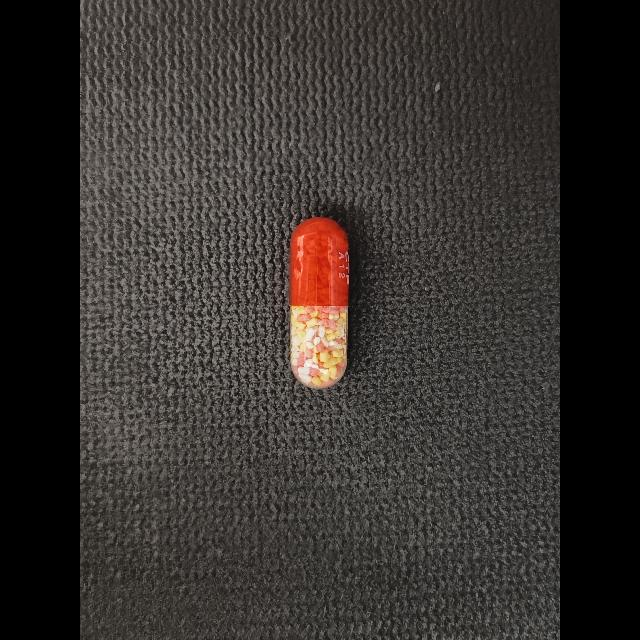Intact Capsule: (290, 217, 349, 389)
